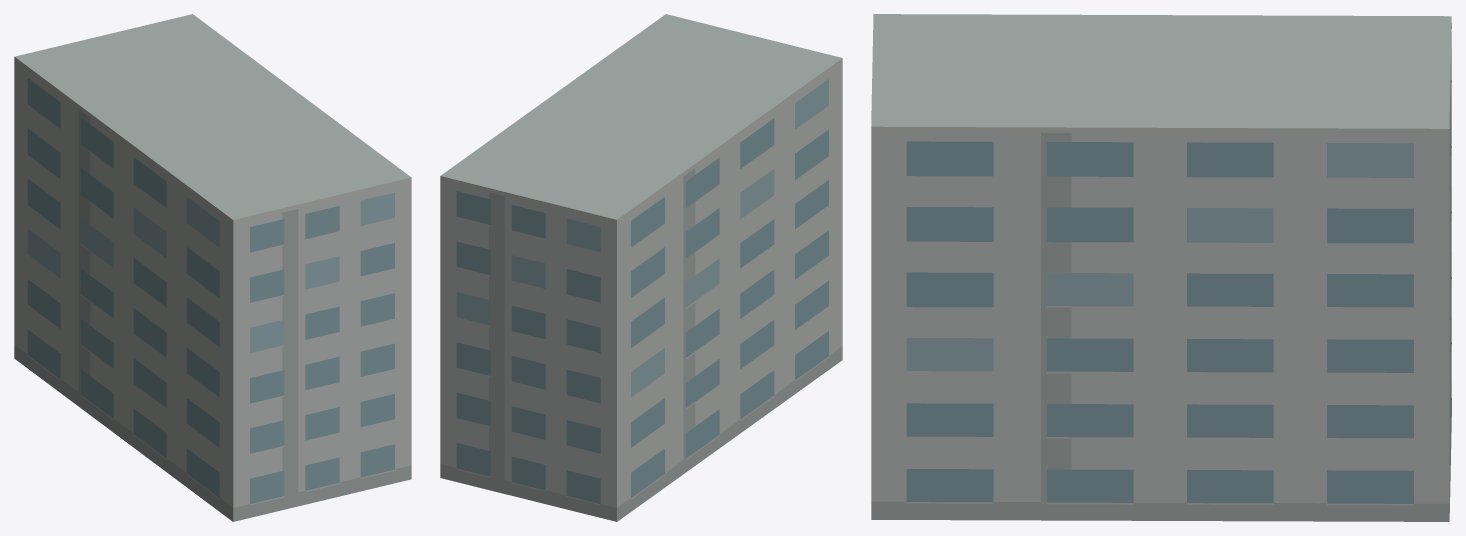
Rendered from survey-upis-33039241.glb.
The picture shows the model from 3 angles, left to right: view 1: azimuth 30°, elevation 25°; view 2: azimuth 150°, elevation 25°; view 3: azimuth 270°, elevation 25°; orthographic projection. The views are drawn at different scales.
Parts seen in each view (by area): view 1: survey-upis-33039241.tmp; view 2: survey-upis-33039241.tmp; view 3: survey-upis-33039241.tmp.
Part boxes in pixels (box(x1,y1,x2,y2)): survey-upis-33039241.tmp: box(14, 14, 411, 521); survey-upis-33039241.tmp: box(440, 14, 842, 521); survey-upis-33039241.tmp: box(871, 14, 1451, 521).
Bounding box in the file's own units: 10.6 × 16.9 × 22.64.
